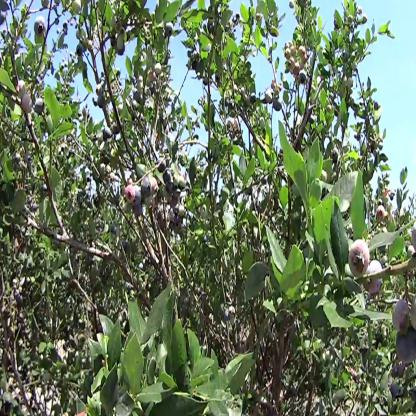intermediate: (347, 233, 375, 277), (125, 186, 134, 201)
mature: (397, 330, 416, 367), (102, 127, 115, 146), (142, 178, 150, 197), (158, 159, 168, 174), (16, 294, 25, 308), (77, 43, 85, 57), (173, 221, 183, 232), (249, 92, 258, 103), (165, 187, 175, 196)
young: (376, 206, 390, 227), (298, 47, 311, 65), (34, 19, 46, 37), (180, 172, 187, 192), (260, 115, 267, 133), (18, 80, 25, 98), (265, 88, 273, 103), (154, 64, 163, 76), (166, 22, 174, 35), (174, 176, 180, 192), (285, 48, 292, 59)
